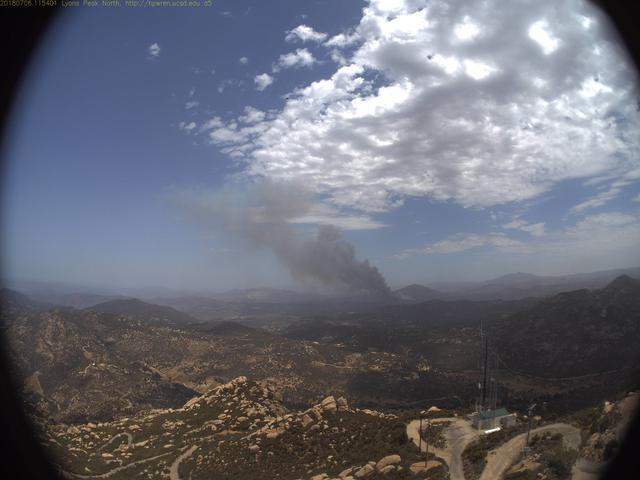Smoke: (158, 166, 421, 320)
